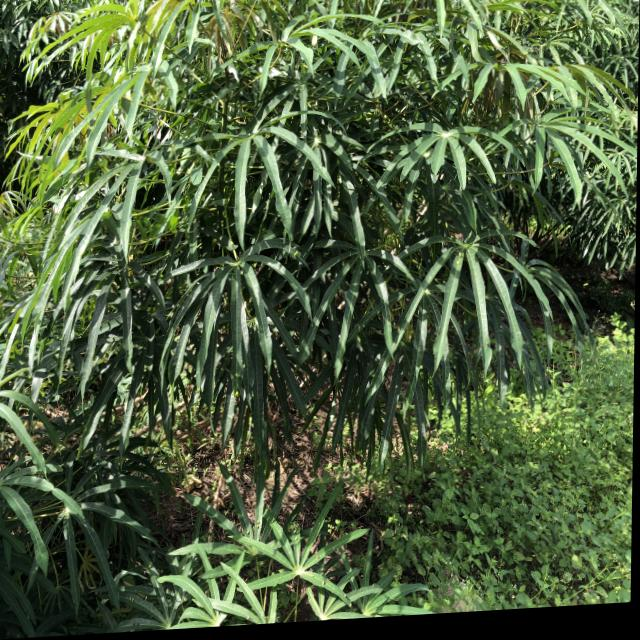Maleza: (445, 400, 640, 632)
Mosca: (126, 617, 141, 634), (250, 514, 261, 533), (124, 593, 140, 606), (316, 576, 329, 592), (256, 177, 269, 192), (341, 592, 353, 604), (250, 196, 257, 215)
